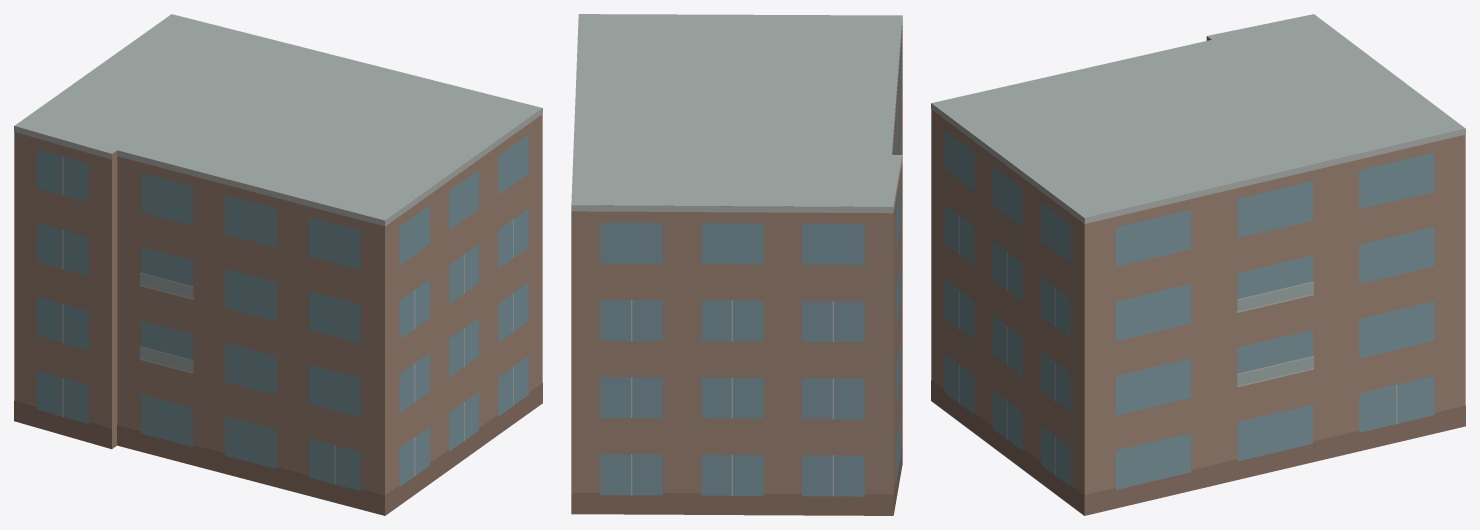
The model's file is survey-upis-32668176.glb.
3 renders of one model, left to right at view 1: azimuth 30°, elevation 25°; view 2: azimuth 150°, elevation 25°; view 3: azimuth 270°, elevation 25°, orthographic. The views are drawn at different scales.
Parts seen in each view (by area): view 1: survey-upis-32668176.tmp; view 2: survey-upis-32668176.tmp; view 3: survey-upis-32668176.tmp.
Boxes of the visible parts, x1,y1,x2,y2 form: survey-upis-32668176.tmp: (14,14,542,515); survey-upis-32668176.tmp: (571,14,902,515); survey-upis-32668176.tmp: (931,14,1465,515).
Bounding box in the file's own units: 17.94 × 12.2 × 19.86.
